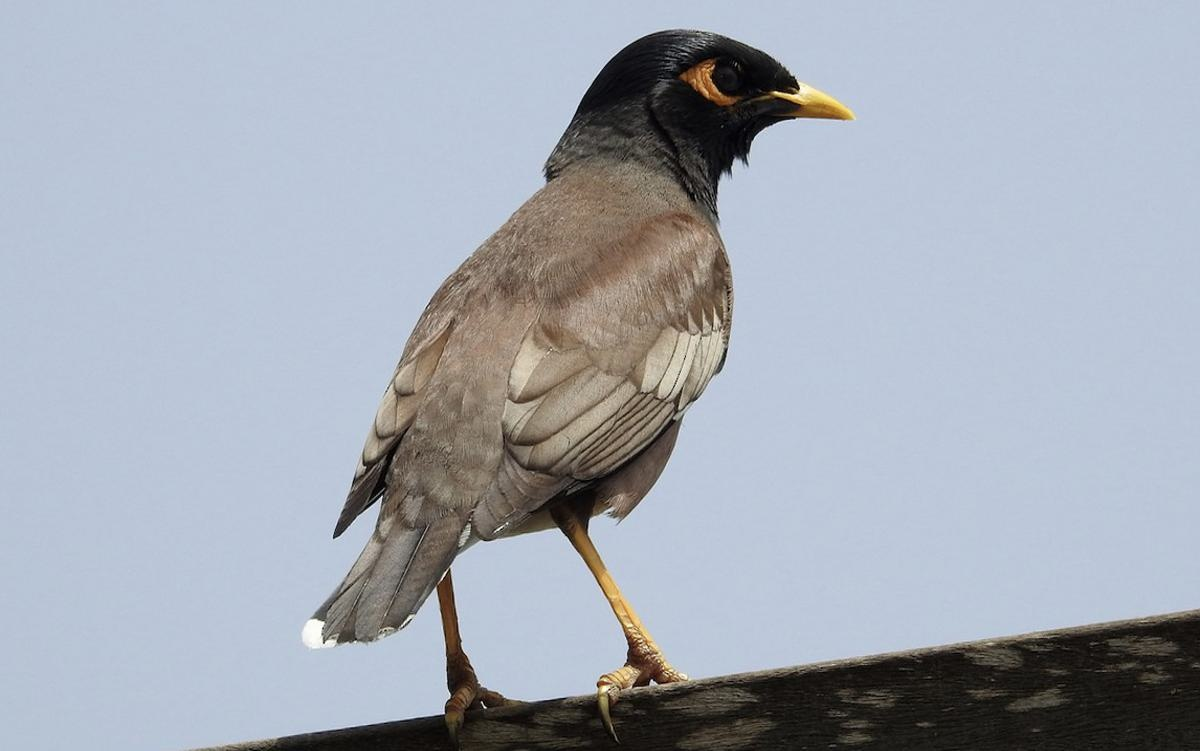myna: (314, 33, 847, 696)
